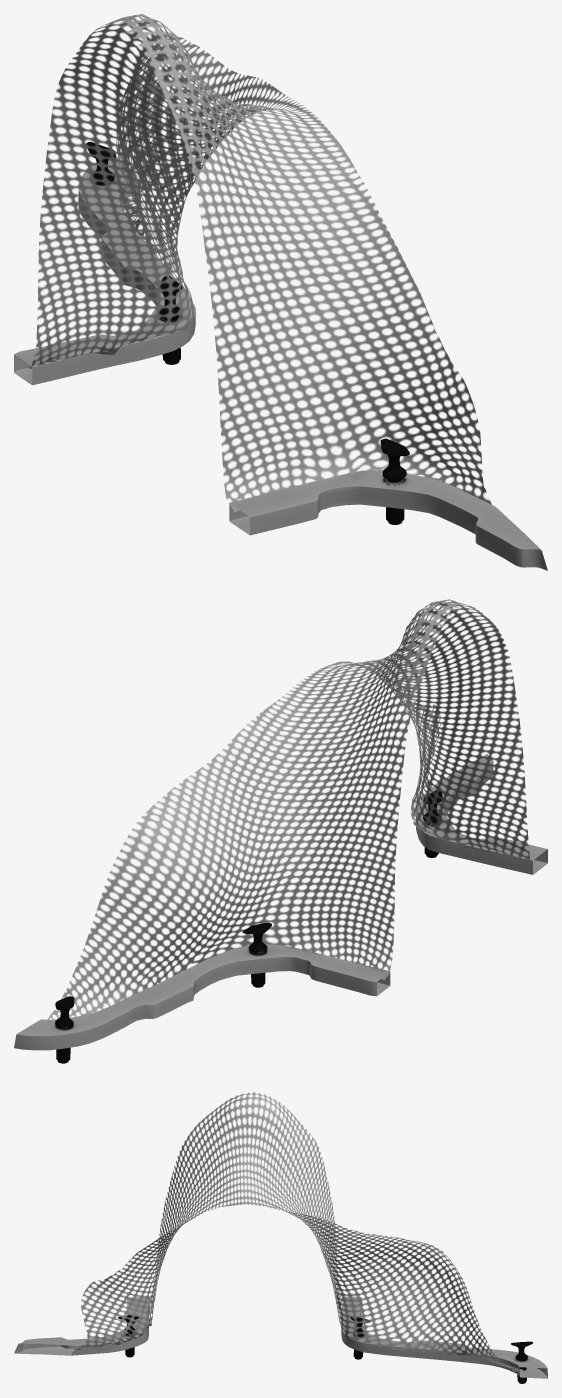
File: neck.glb
3 views of the same model, one above another, from view 1: azimuth 30°, elevation 25°; view 2: azimuth 150°, elevation 25°; view 3: azimuth 270°, elevation 25° (orthographic). The views are drawn at different scales.
Parts seen in each view (by area): view 1: mesh-0; view 2: mesh-0; view 3: mesh-0.
Part boxes in pixels (x1,y1,x2,y2): mesh-0: [14, 14, 547, 570]; mesh-0: [14, 599, 547, 1063]; mesh-0: [14, 1092, 547, 1383].
Bounding box in the file's own units: 21.49 × 32.51 × 68.13.
Materials: 1 (1 with a texture image).
